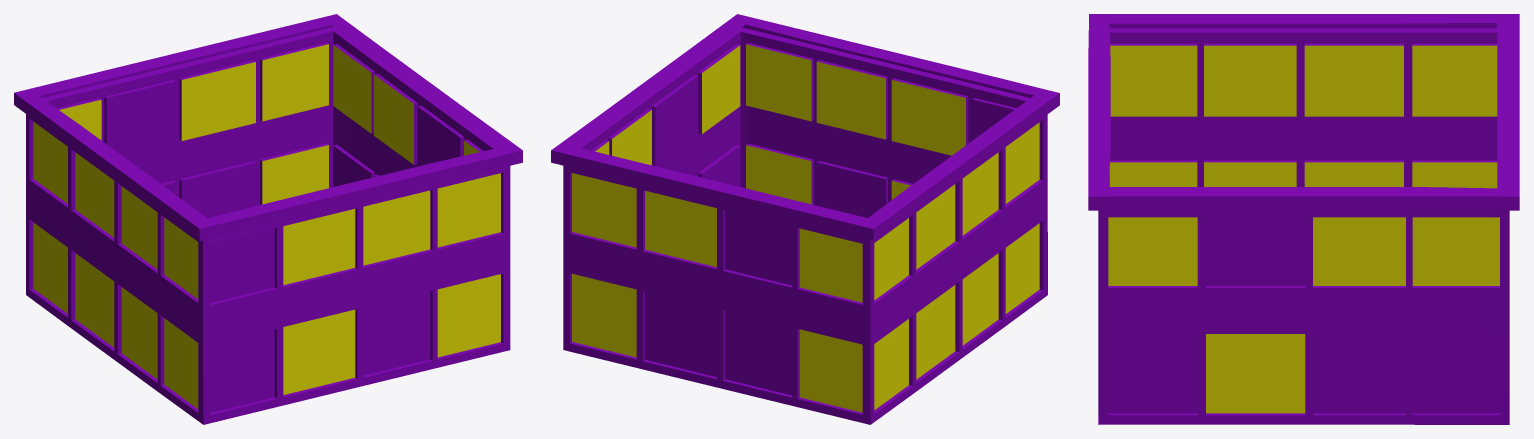
Rendered from Building_Medium_Peice_003.fbx.
3 renders of one model, left to right at view 1: azimuth 30°, elevation 25°; view 2: azimuth 150°, elevation 25°; view 3: azimuth 270°, elevation 25°, orthographic. The views are drawn at different scales.
Visible parts, largest first — view 1: Building_Medium_Piece_003; view 2: Building_Medium_Piece_003; view 3: Building_Medium_Piece_003.
Boxes of the visible parts, x1,y1,x2,y2 form: Building_Medium_Piece_003: (14,14,522,424); Building_Medium_Piece_003: (551,14,1059,424); Building_Medium_Piece_003: (1088,14,1519,424).
Bounding box in the file's own units: 6725 × 4000 × 6720.
